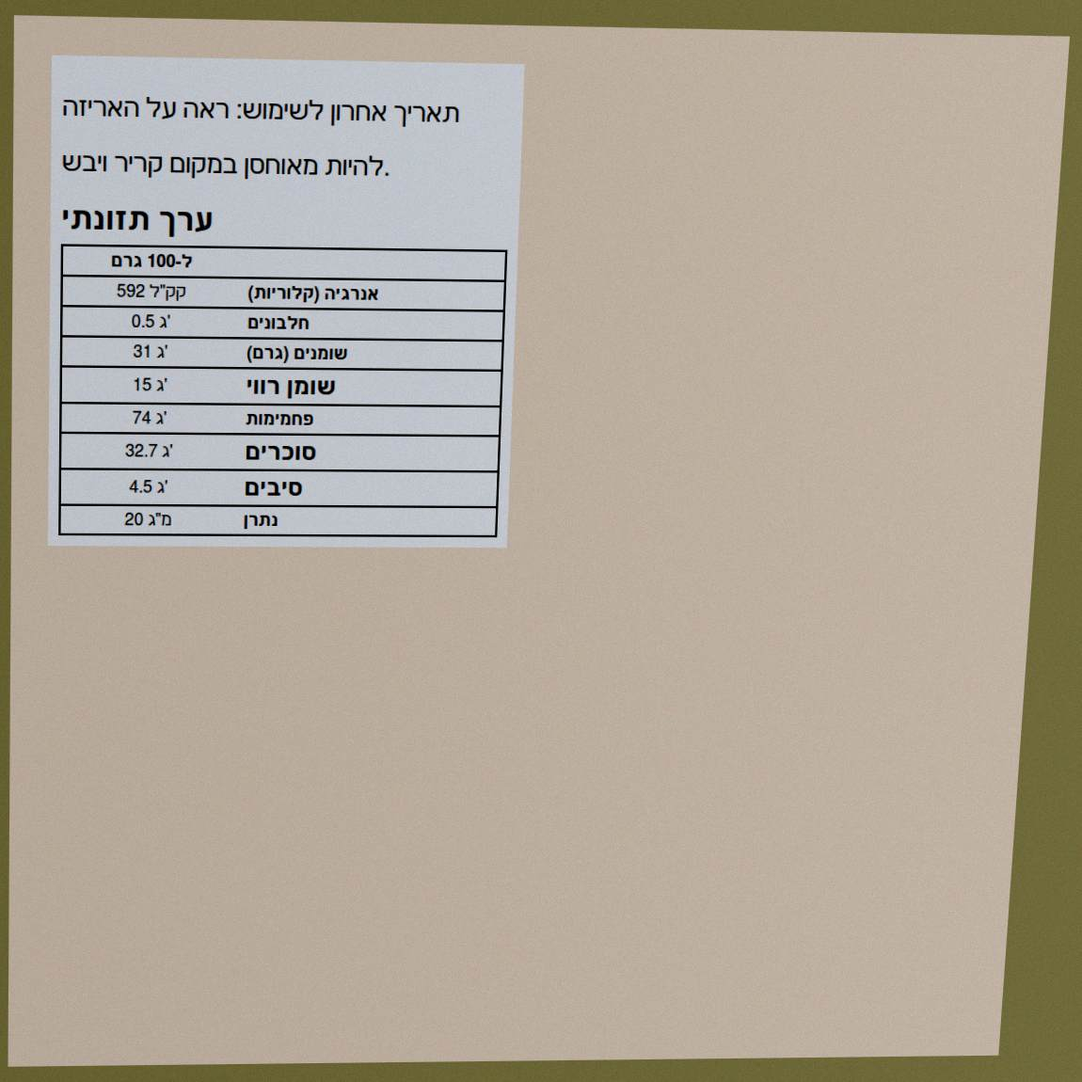carbs: (130, 408, 169, 429)
energy: (115, 281, 188, 303)
fat: (131, 341, 170, 363)
protein: (129, 311, 173, 333)
